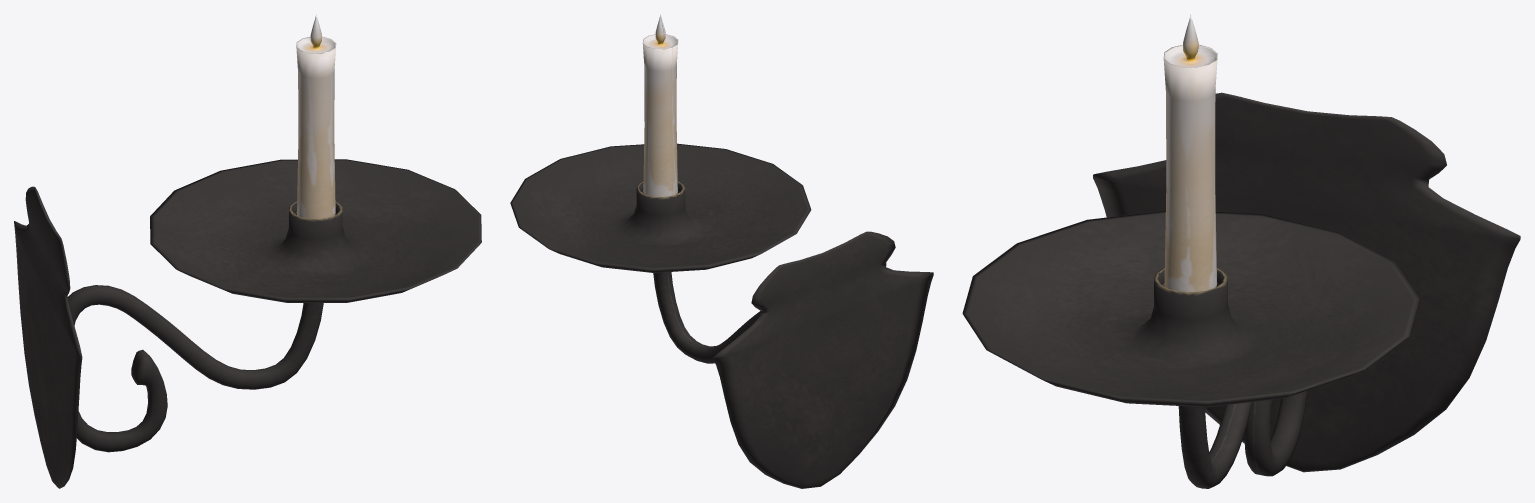
The model's file is candle.fbx.
3 renders of one model, left to right at view 1: azimuth 30°, elevation 25°; view 2: azimuth 150°, elevation 25°; view 3: azimuth 270°, elevation 25°, orthographic. The views are drawn at different scales.
Parts seen in each view (by area): view 1: Base.003; view 2: Base.003; view 3: Base.003.
Part boxes in pixels (box(x1,y1,x2,y2)): Base.003: box(14, 14, 481, 488); Base.003: box(510, 14, 933, 488); Base.003: box(962, 14, 1520, 488).
Bounding box in the file's own units: 0.5122 × 0.5248 × 0.4389.
1 material, 1 textured.
